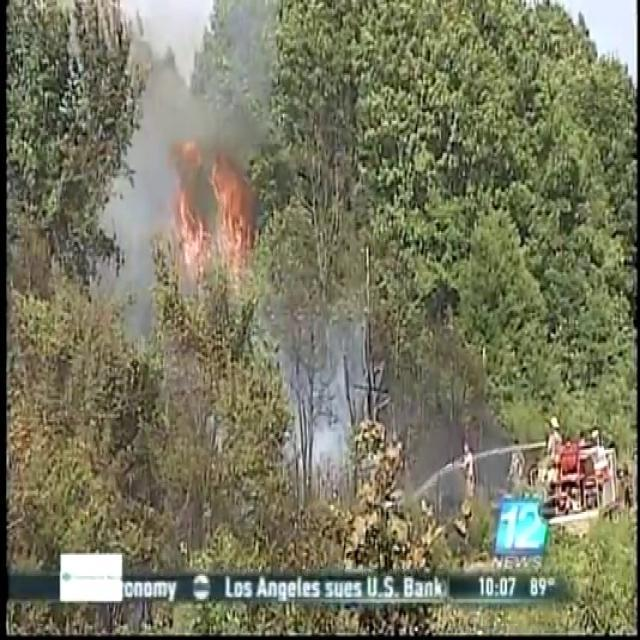Fire: (162, 131, 255, 289)
Smoke: (106, 26, 262, 312), (274, 306, 470, 522)
